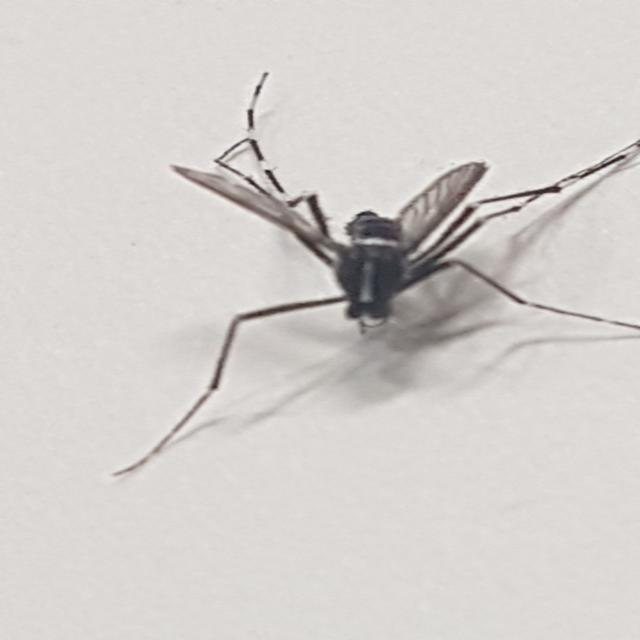albopictus: (138, 64, 640, 385)
